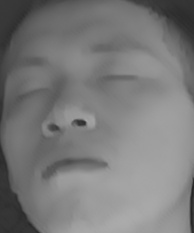blink: (99, 67, 140, 93), (12, 82, 49, 105)
mouth: (41, 148, 112, 183)
